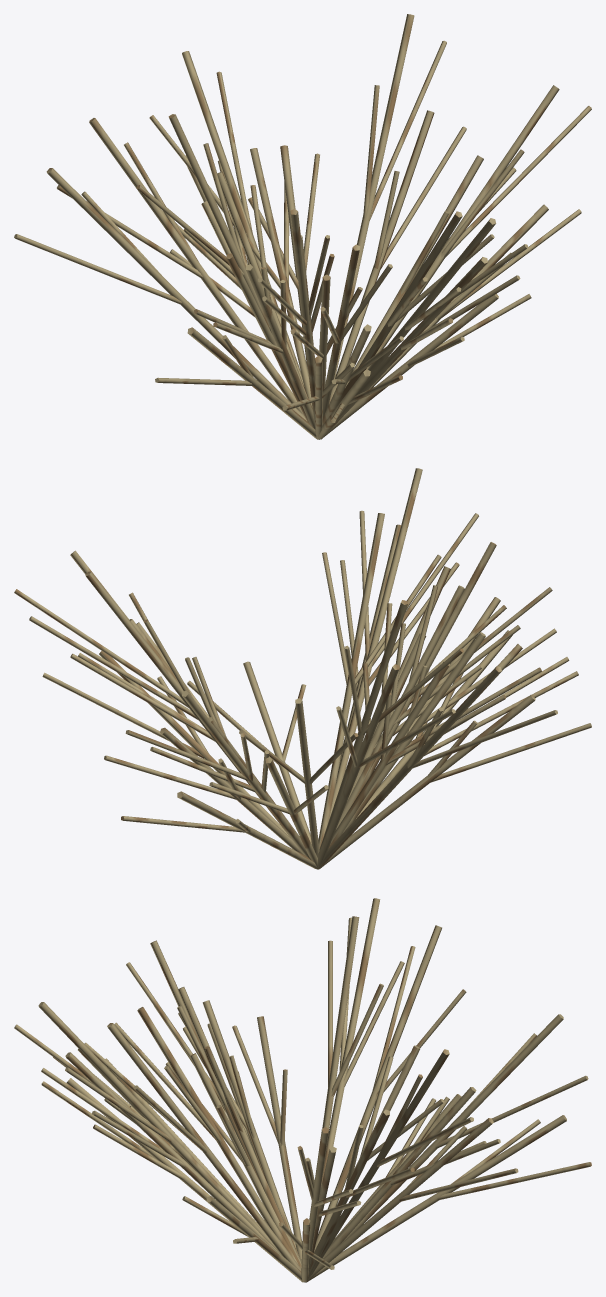
File: dry-bush.obj
3 renders of one model, top to bottom at view 1: azimuth 30°, elevation 25°; view 2: azimuth 150°, elevation 25°; view 3: azimuth 270°, elevation 25°, orthographic. The views are drawn at different scales.
Visible parts, largest first — view 1: dry-bush; view 2: dry-bush; view 3: dry-bush.
Boxes of the visible parts, x1,y1,x2,y2 form: dry-bush: (14,14,591,439); dry-bush: (14,468,591,869); dry-bush: (14,898,591,1282).
Bounding box in the file's own units: 1.46 × 0.8041 × 1.35.
Materials: 1 (1 with a texture image).
